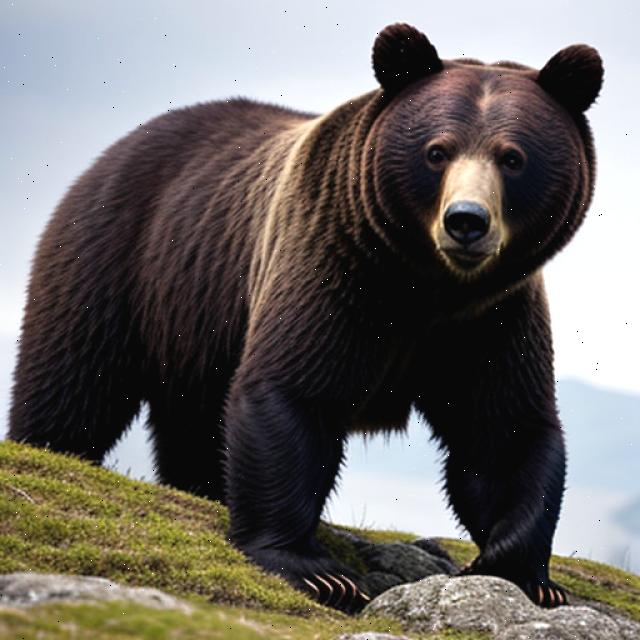bear: (289, 28, 603, 312)
